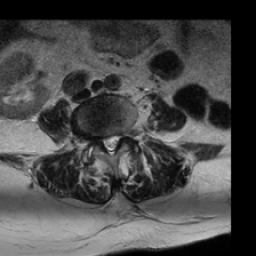CCS_normal: (107, 129, 113, 160)
LFS_stenosis: (121, 126, 127, 144)
LLS_normal: (113, 128, 120, 147)
RFS_severe_stenosis: (92, 129, 99, 149)
RLS_stenosis: (99, 132, 107, 151)
